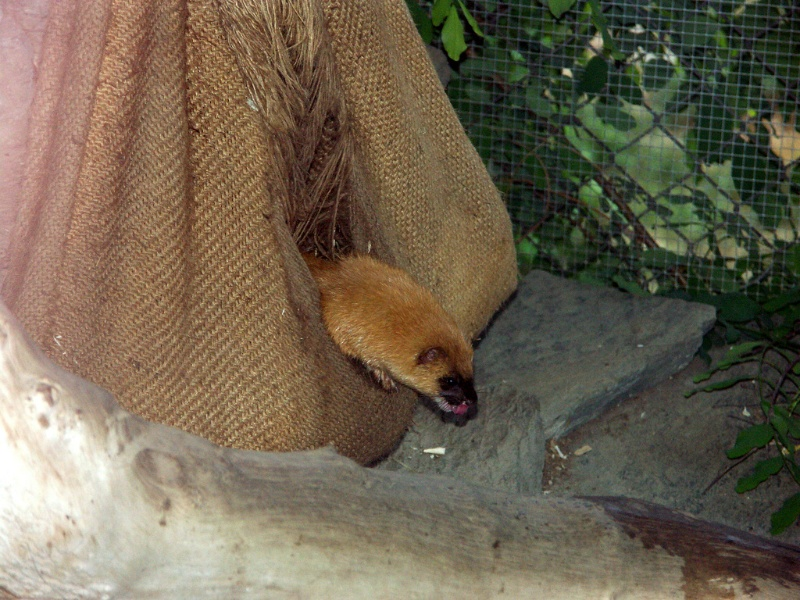minkish: (297, 242, 483, 419)
